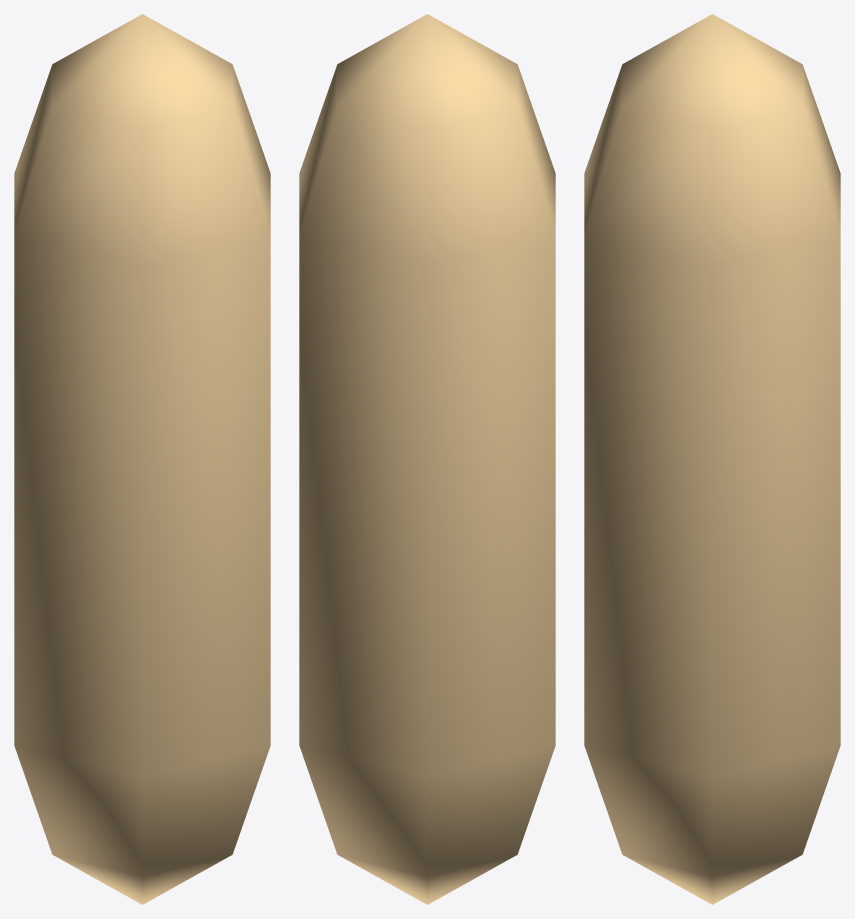
Rendered from role_bullet.FBX.
3 views of the same model, side by side, from view 1: azimuth 30°, elevation 25°; view 2: azimuth 150°, elevation 25°; view 3: azimuth 270°, elevation 25° (orthographic).
Visible parts, largest first — view 1: role_bullet; view 2: role_bullet; view 3: role_bullet.
Part boxes in pixels (box(x1,y1,x2,y2)): role_bullet: box(14, 14, 270, 904); role_bullet: box(299, 14, 555, 904); role_bullet: box(584, 14, 840, 904).
Bounding box in the file's own units: 1.42 × 4.7 × 1.23.
Materials: 1 (1 with a texture image).
